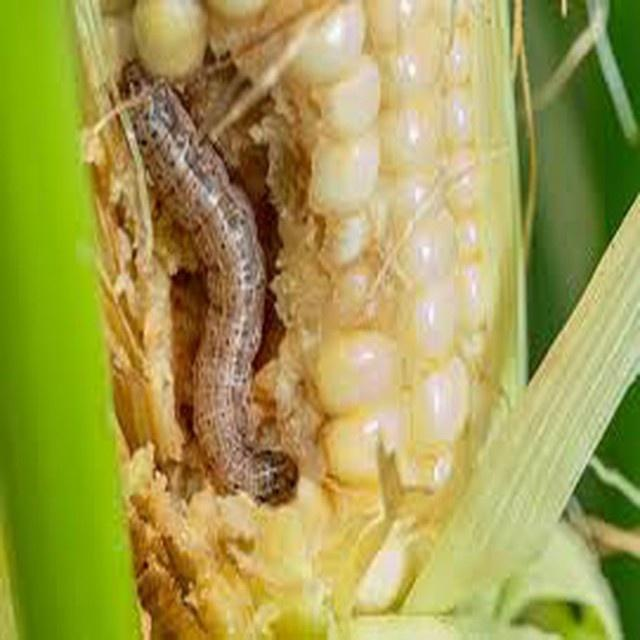gusano_cogollero: (112, 56, 302, 512)
